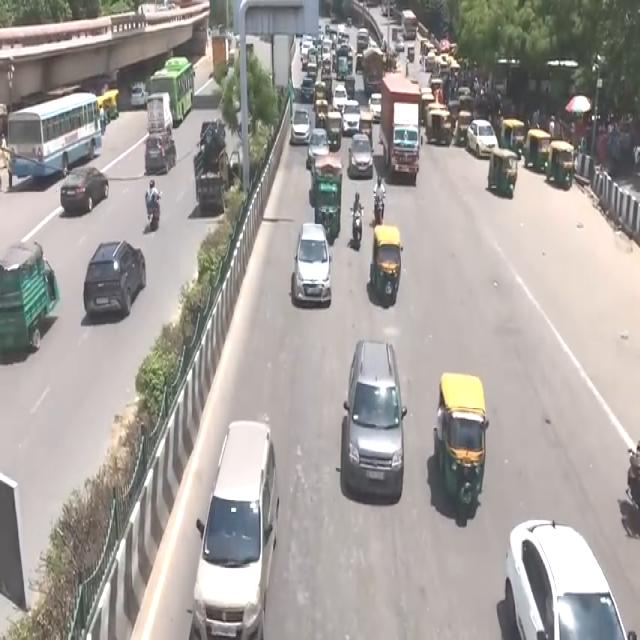BUS: (9, 93, 106, 190), (151, 58, 198, 124)
MOTORCYCLE: (352, 210, 364, 252)
TRUCK: (382, 74, 423, 183)
